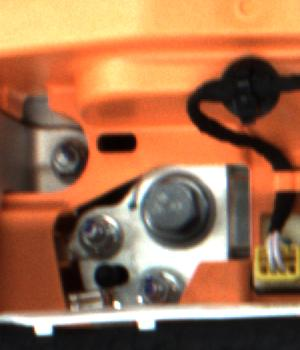nut_b: (139, 169, 219, 253)
screw_s: (43, 137, 87, 179), (80, 213, 123, 254), (139, 270, 184, 309)
